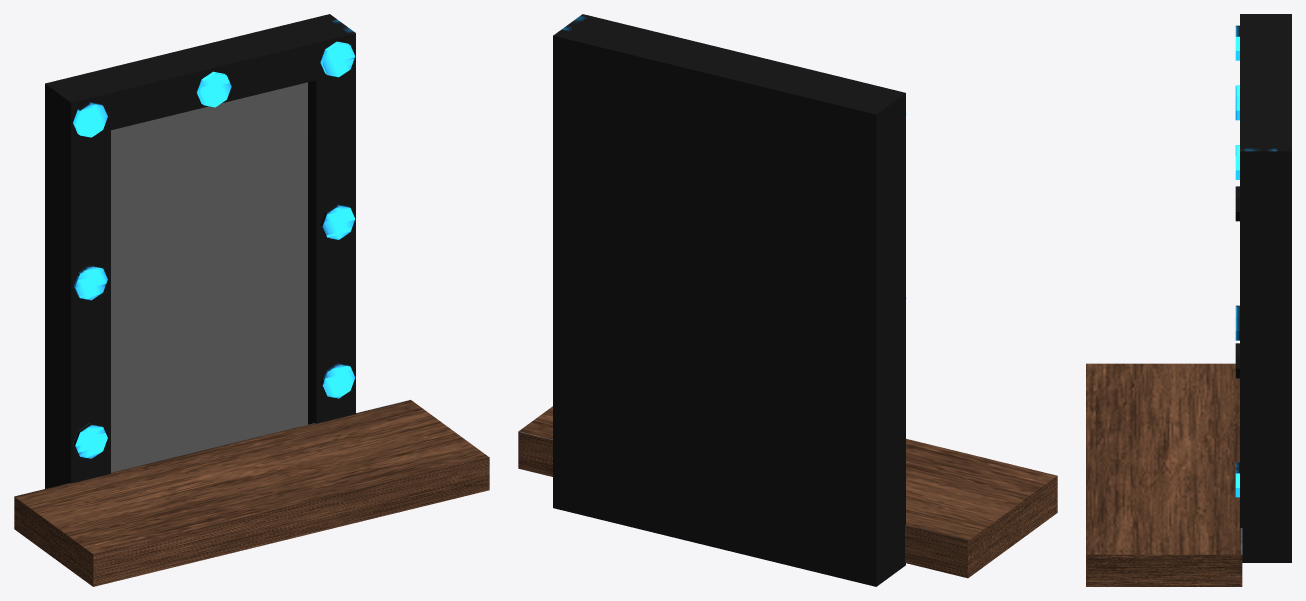
Rendered from Espsejo.fbx.
3 views of the same model, side by side, from view 1: azimuth 30°, elevation 25°; view 2: azimuth 150°, elevation 25°; view 3: azimuth 270°, elevation 25° (orthographic). The views are drawn at different scales.
Parts seen in each view (by area): view 1: Espejo; view 2: Espejo; view 3: Espejo.
Boxes of the visible parts, x1,y1,x2,y2 form: Espejo: (14,14,489,586); Espejo: (518,14,1057,586); Espejo: (1086,14,1291,586).
Bounding box in the file's own units: 276 × 277 × 126.
Materials: 1 (1 with a texture image).
